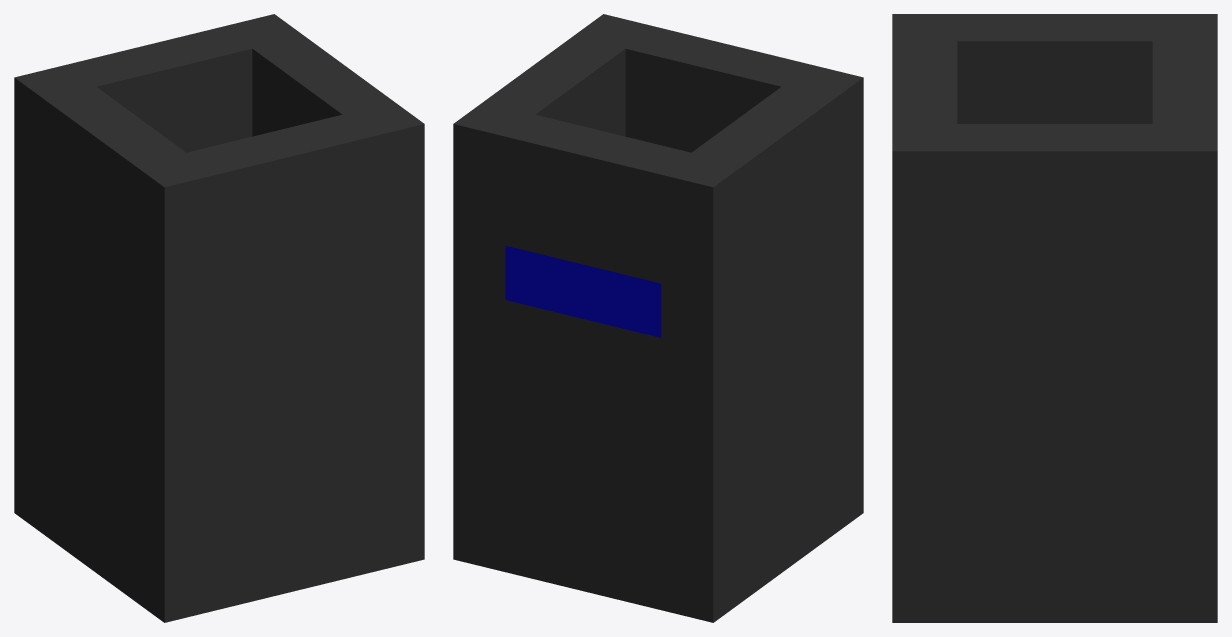
The model's file is Trash1.obj.
3 renders of one model, left to right at view 1: azimuth 30°, elevation 25°; view 2: azimuth 150°, elevation 25°; view 3: azimuth 270°, elevation 25°, orthographic. The views are drawn at different scales.
Visible parts, largest first — view 1: 立方体.123; view 2: 立方体.123; view 3: 立方体.123.
Part boxes in pixels (<box>): 立方体.123: <box>14,14,424,622</box>; 立方体.123: <box>453,14,863,622</box>; 立方体.123: <box>892,14,1217,622</box>.
Bounding box in the file's own units: 5 × 8 × 5.
